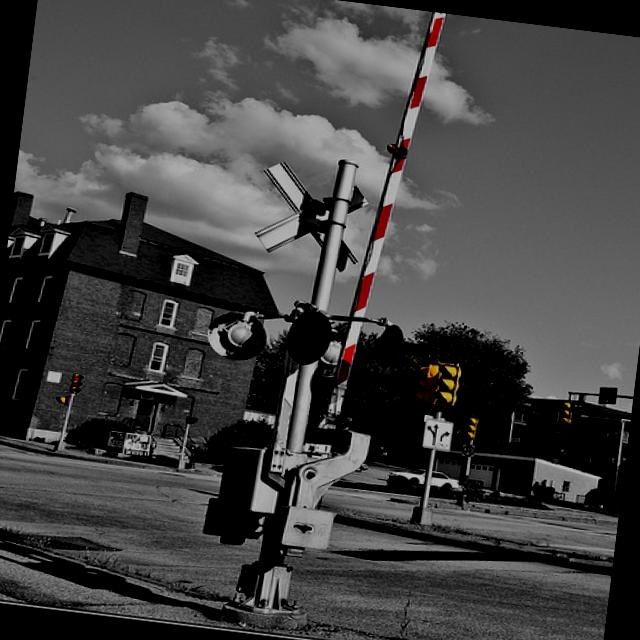Vehicle: (388, 465, 460, 490), (582, 486, 622, 506)
